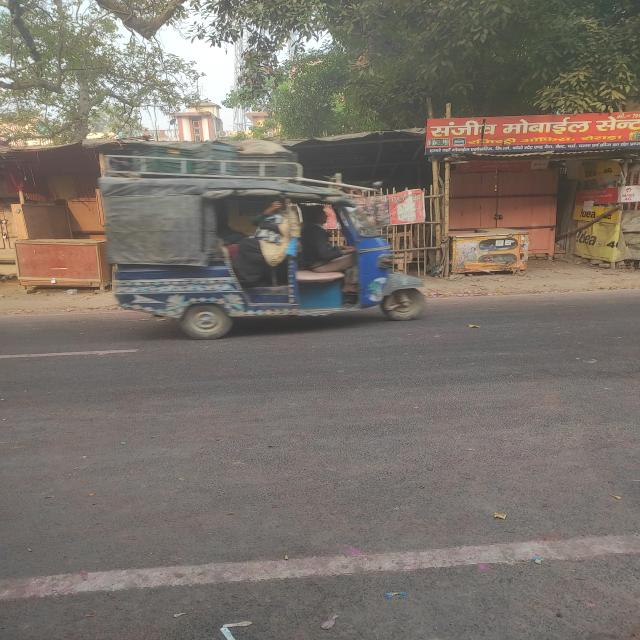tempo: (81, 146, 445, 333)
